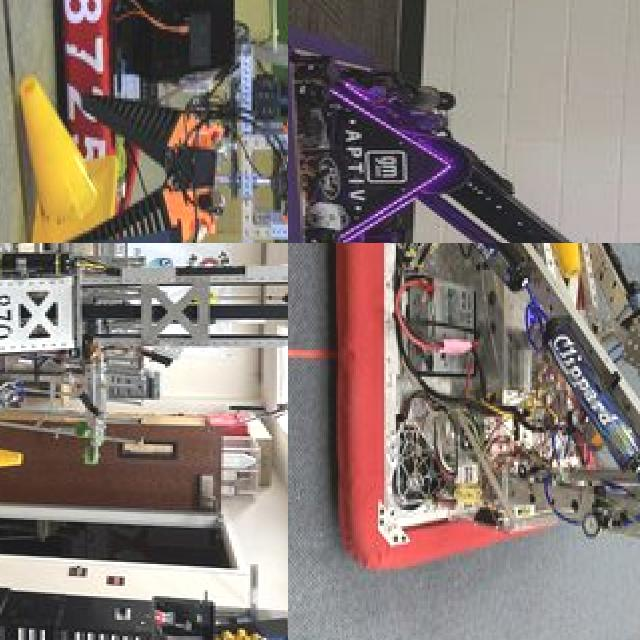FRC-Robots: (288, 243, 640, 640), (288, 0, 640, 243), (0, 243, 288, 515), (36, 0, 288, 243)
